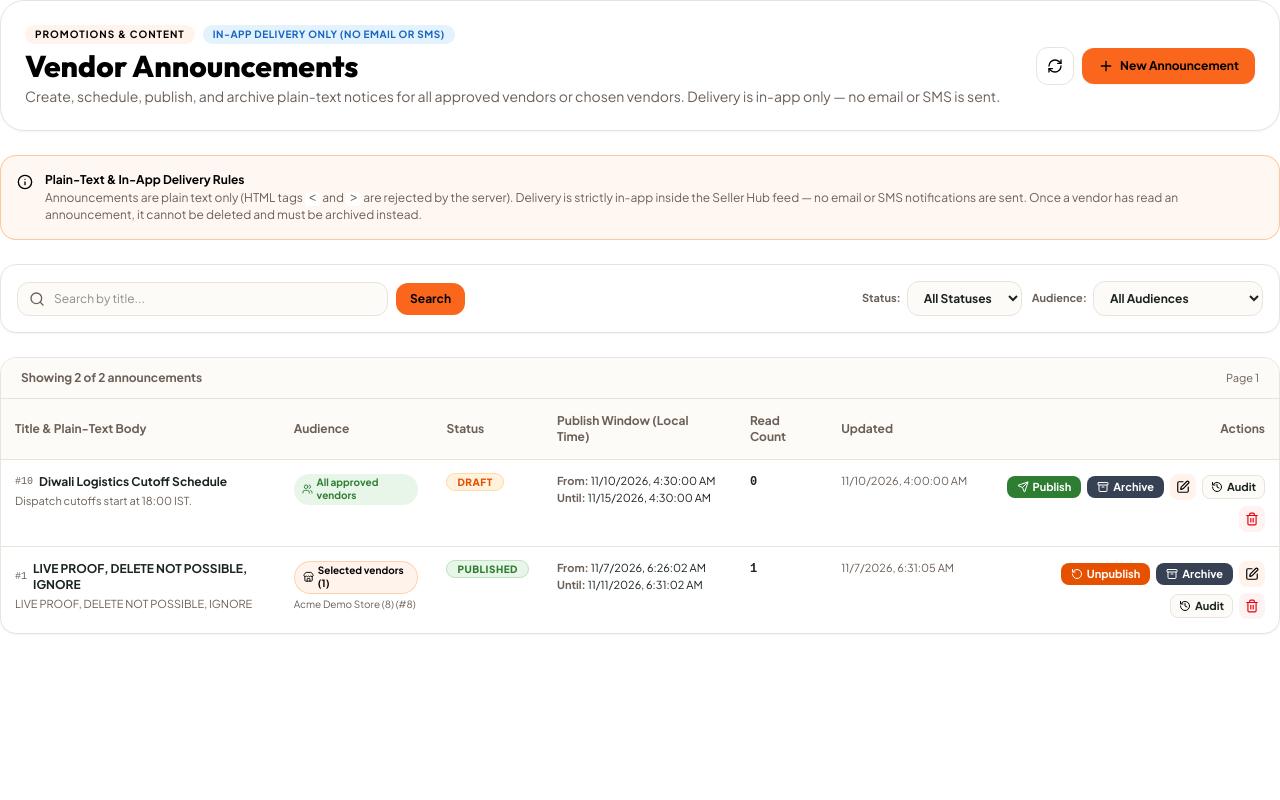
Test case: AnnouncementsModule — Real Backend Wiring › 2. displays server field validation errors under matching inputs (no raw keys) and clears error when typing
This screenshot has width=1280, height=800.
Expected: the text "Diwali Logistics Cutoff Schedule" is shown, [39, 474, 227, 490]
Click the button with test id "create-announcement-btn": (1168,66) [1082, 48, 1255, 84]
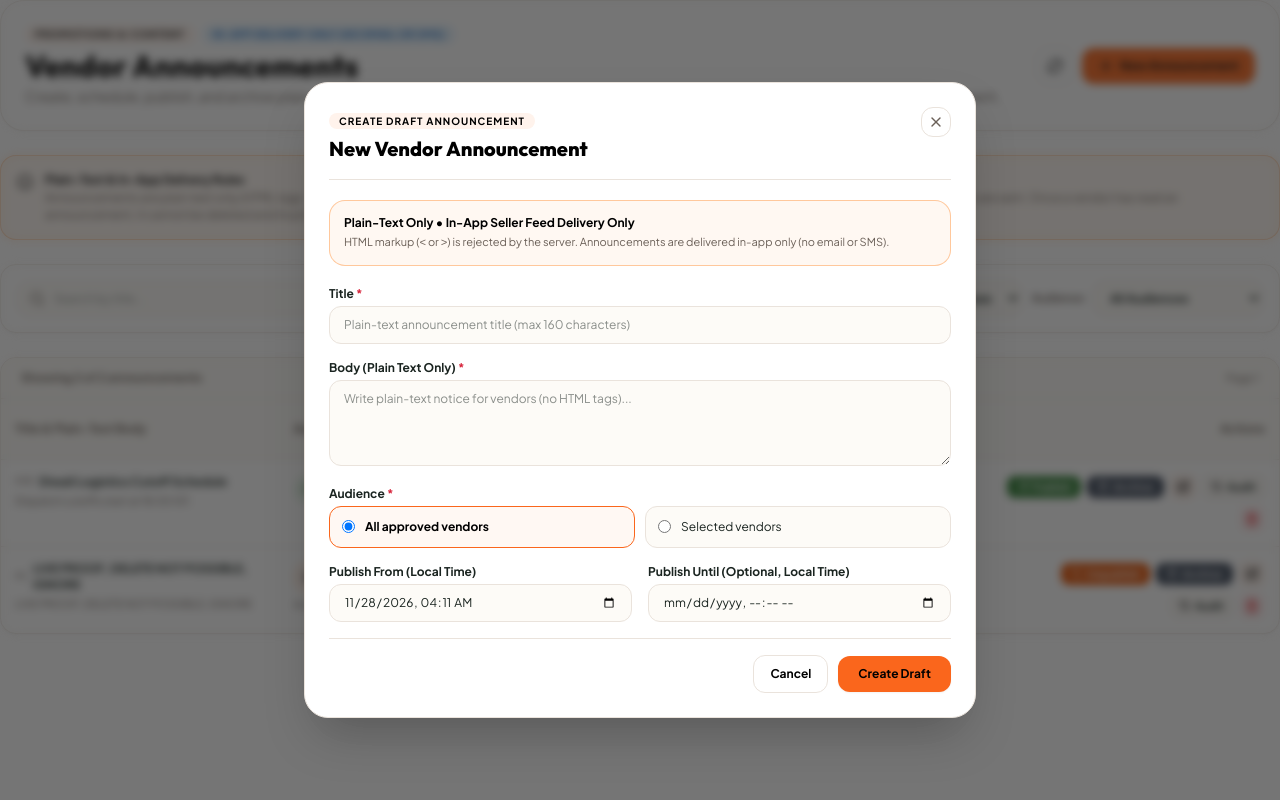
Now the element with test id "announcement-form-modal" is shown
In the text box with test id "input-body": (640,423) [329, 380, 951, 466], type "<b>HTML not allowed</b>"
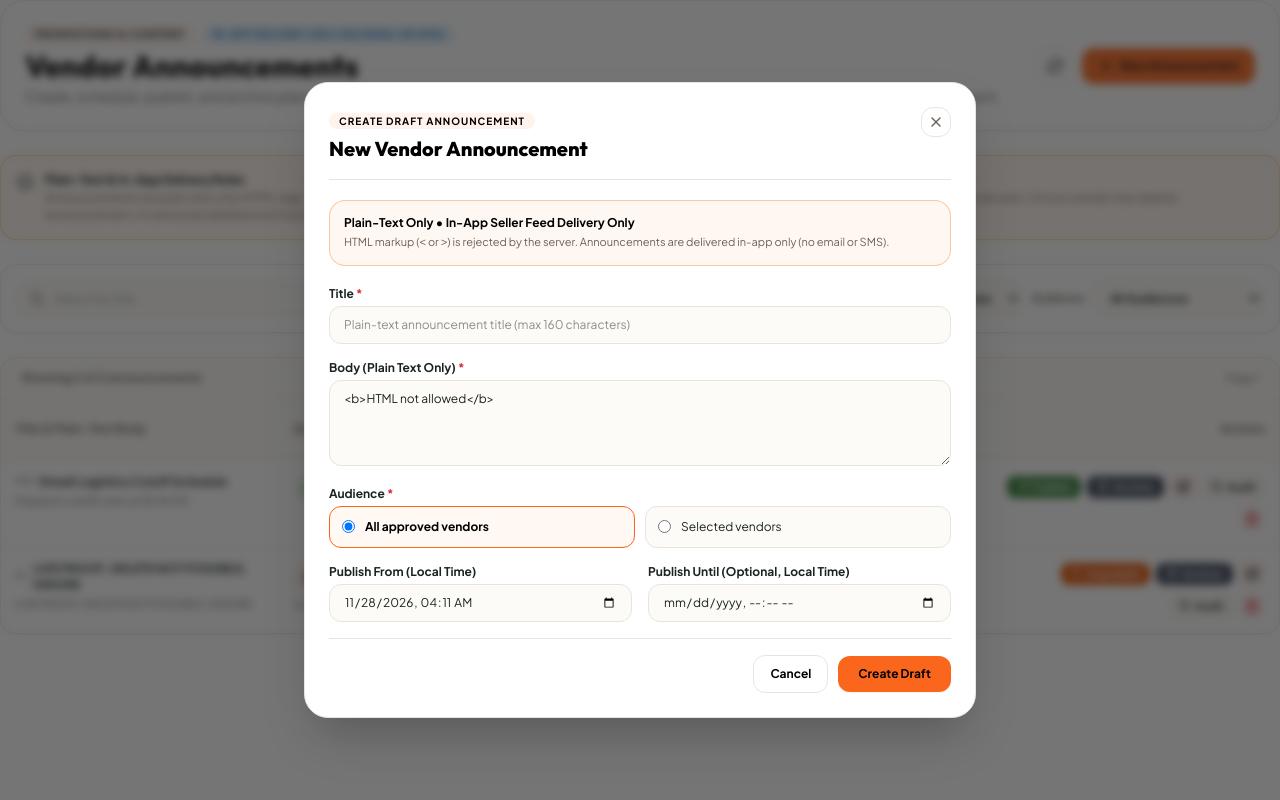
Click the button with test id "submit-announcement-btn": (895,674) [838, 656, 951, 692]
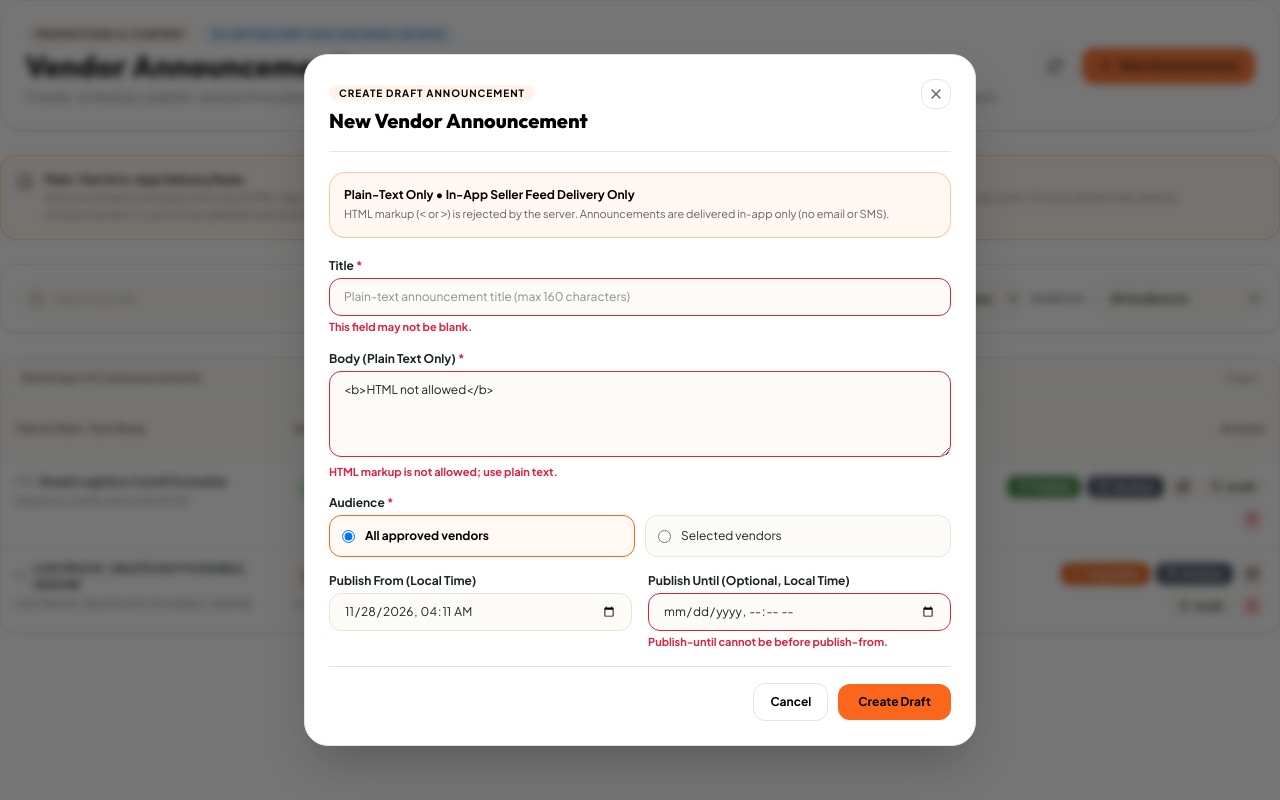
Now the message with test id "error-title" reads "This field may not be blank.", box [329, 320, 472, 333]
Now the message with test id "error-body" reads "HTML markup is not allowed; use plain text.", box [329, 464, 558, 478]
Now the message with test id "error-publish_until" reads "Publish-until cannot be before publish-from.", box [648, 635, 888, 648]
Note: Typing in title clears only the title error
In the field with test id "input-title": (640,297) [329, 278, 951, 316], type "Valid Plain Text Title"
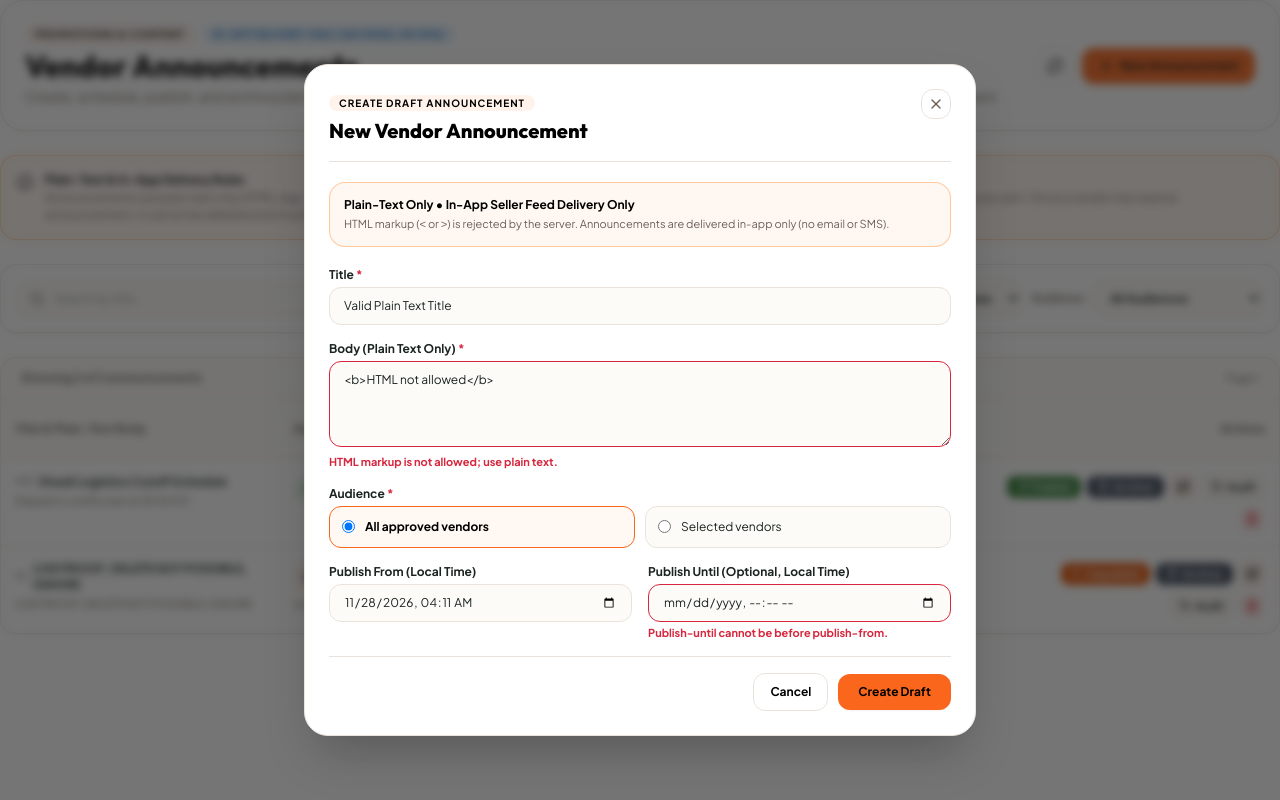
Now the message "HTML markup is not allowed; use plain text." is shown, box [329, 455, 558, 468]
Now the message with test id "error-title" is gone
Note: Typing in body clears the body error
Replace the text in the text box with test id "input-body" with "Valid plain text body without angle brackets.": (640,404) [329, 361, 951, 447]
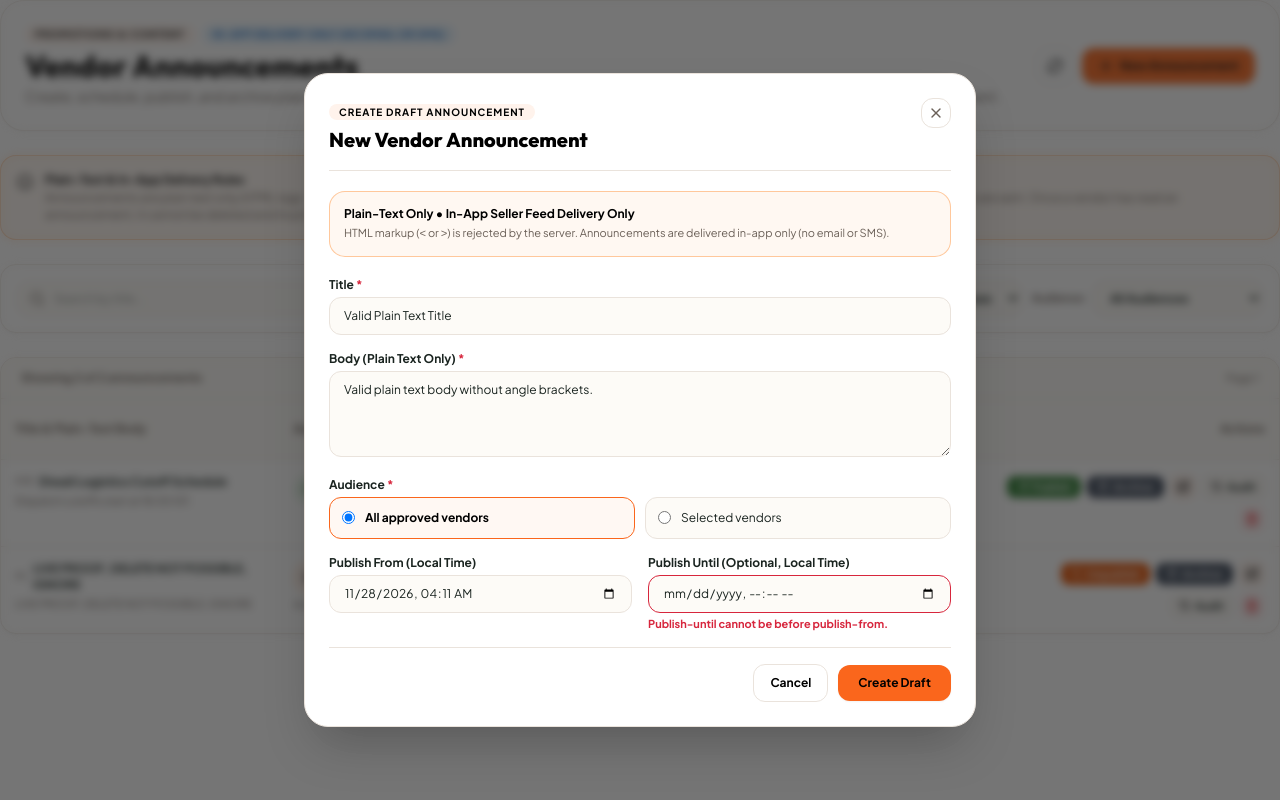
Now the message with test id "error-body" is gone
